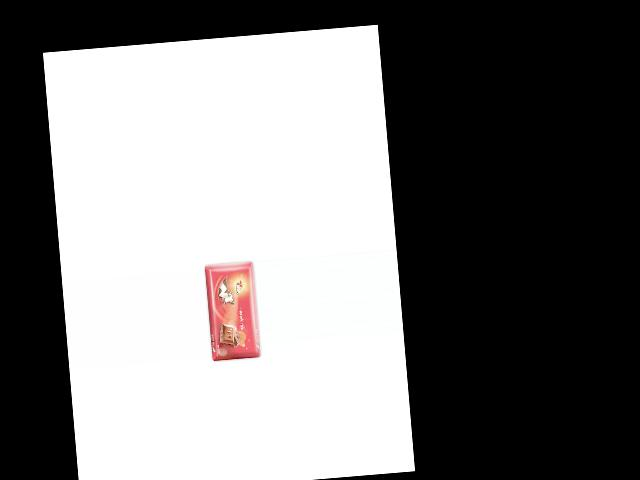chocolate: (200, 255, 261, 363)
